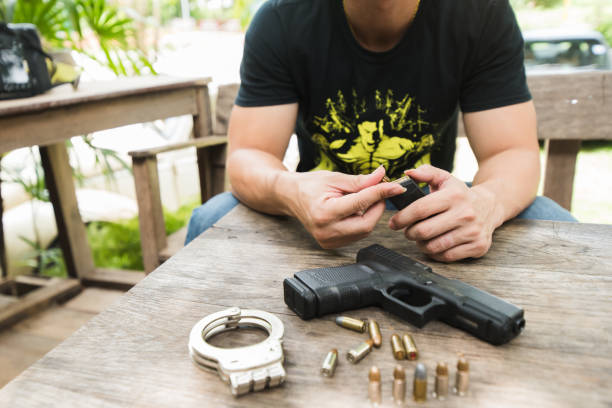pistol: (282, 242, 537, 353)
